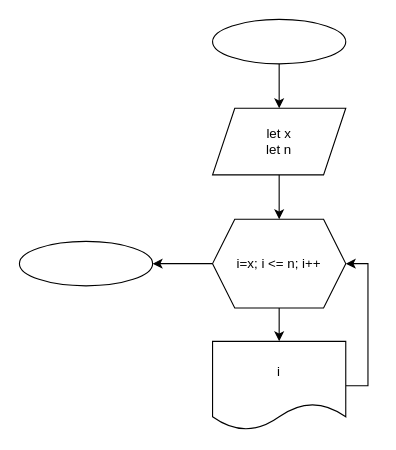
Image size: 396x450. Some labels were removed from this diagram. The centre of each missing label's shape, as x and y in pixels:
Başla: the point at 278,41
Bitir: the point at 85,263
